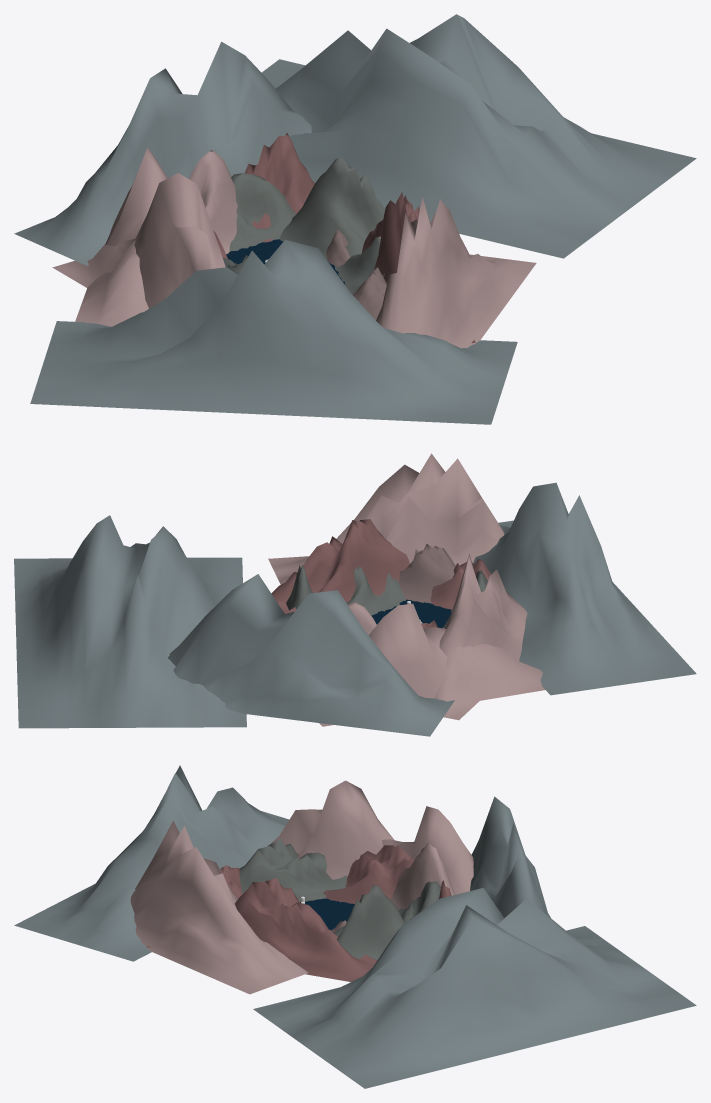
Rendered from PrototypeEnviroment.fbx.
3 renders of one model, top to bottom at view 1: azimuth 30°, elevation 25°; view 2: azimuth 150°, elevation 25°; view 3: azimuth 270°, elevation 25°, orthographic. The views are drawn at different scales.
Parts seen in each view (by area): view 1: Landscape_16, Landscape_15, Landscape_3, Landscape_14, Landscape_8, Landscape_9, Landscape_1, Landscape_5, Landscape_2, Landscape_4, Landscape_10, Landscape_11 (+2 smaller); view 2: Landscape_16, Landscape_3, Landscape_15, Landscape_14, Landscape_9, Landscape_8, Landscape_10, Landscape_12, Landscape_11, Landscape_13, water, Landscape_1 (+1 smaller); view 3: Landscape_16, Landscape_15, Landscape_14, Landscape_10, Landscape_8, Landscape_3, Landscape_7, Landscape_1, Landscape_9, Landscape_6, Landscape_4, water (+1 smaller).
Part boxes in pixels (left/top/right/bottom): Landscape_16: left=261, top=14, right=696, bottom=258; Landscape_15: left=30, top=239, right=517, bottom=424; Landscape_3: left=14, top=41, right=311, bottom=266; Landscape_14: left=376, top=196, right=536, bottom=348; Landscape_8: left=52, top=173, right=225, bottom=308; Landscape_9: left=75, top=147, right=167, bottom=326; Landscape_1: left=279, top=157, right=384, bottom=258; Landscape_5: left=229, top=173, right=296, bottom=251; Landscape_2: left=245, top=133, right=314, bottom=242; Landscape_4: left=189, top=150, right=237, bottom=254; Landscape_10: left=361, top=192, right=475, bottom=343; Landscape_11: left=334, top=236, right=384, bottom=294; Landscape_16: left=14, top=515, right=246, bottom=728; Landscape_3: left=168, top=574, right=454, bottom=736; Landscape_15: left=473, top=482, right=696, bottom=695; Landscape_14: left=268, top=453, right=504, bottom=584; Landscape_9: left=319, top=603, right=544, bottom=726; Landscape_8: left=434, top=554, right=527, bottom=720; Landscape_10: left=271, top=519, right=409, bottom=602; Landscape_12: left=399, top=544, right=455, bottom=603; Landscape_11: left=346, top=566, right=406, bottom=615; Landscape_13: left=430, top=559, right=491, bottom=612; water: left=371, top=599, right=451, bottom=628; Landscape_1: left=286, top=565, right=312, bottom=610; Landscape_16: left=253, top=888, right=696, bottom=1088; Landscape_15: left=14, top=765, right=289, bottom=961; Landscape_14: left=130, top=820, right=308, bottom=994; Landscape_10: left=146, top=878, right=377, bottom=981; Landscape_8: left=271, top=780, right=394, bottom=879; Landscape_3: left=470, top=796, right=550, bottom=917; Landscape_7: left=239, top=839, right=347, bottom=901; Landscape_1: left=334, top=884, right=404, bottom=959; Landscape_9: left=382, top=806, right=473, bottom=894; Landscape_6: left=323, top=845, right=414, bottom=903; Landscape_4: left=390, top=842, right=455, bottom=909; water: left=300, top=898, right=354, bottom=930.
Size of the model in its own units: 34547 by 6861 by 34220.
